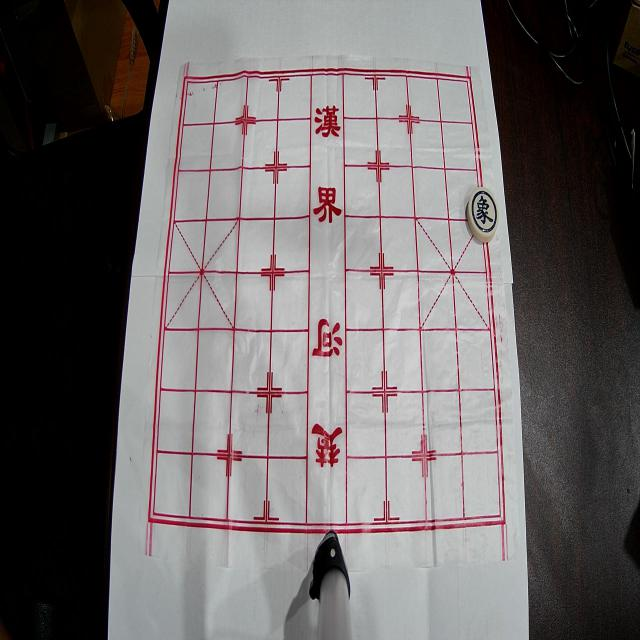black-elephant: (467, 186, 499, 242)
